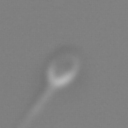normal: (16, 84, 54, 128)
